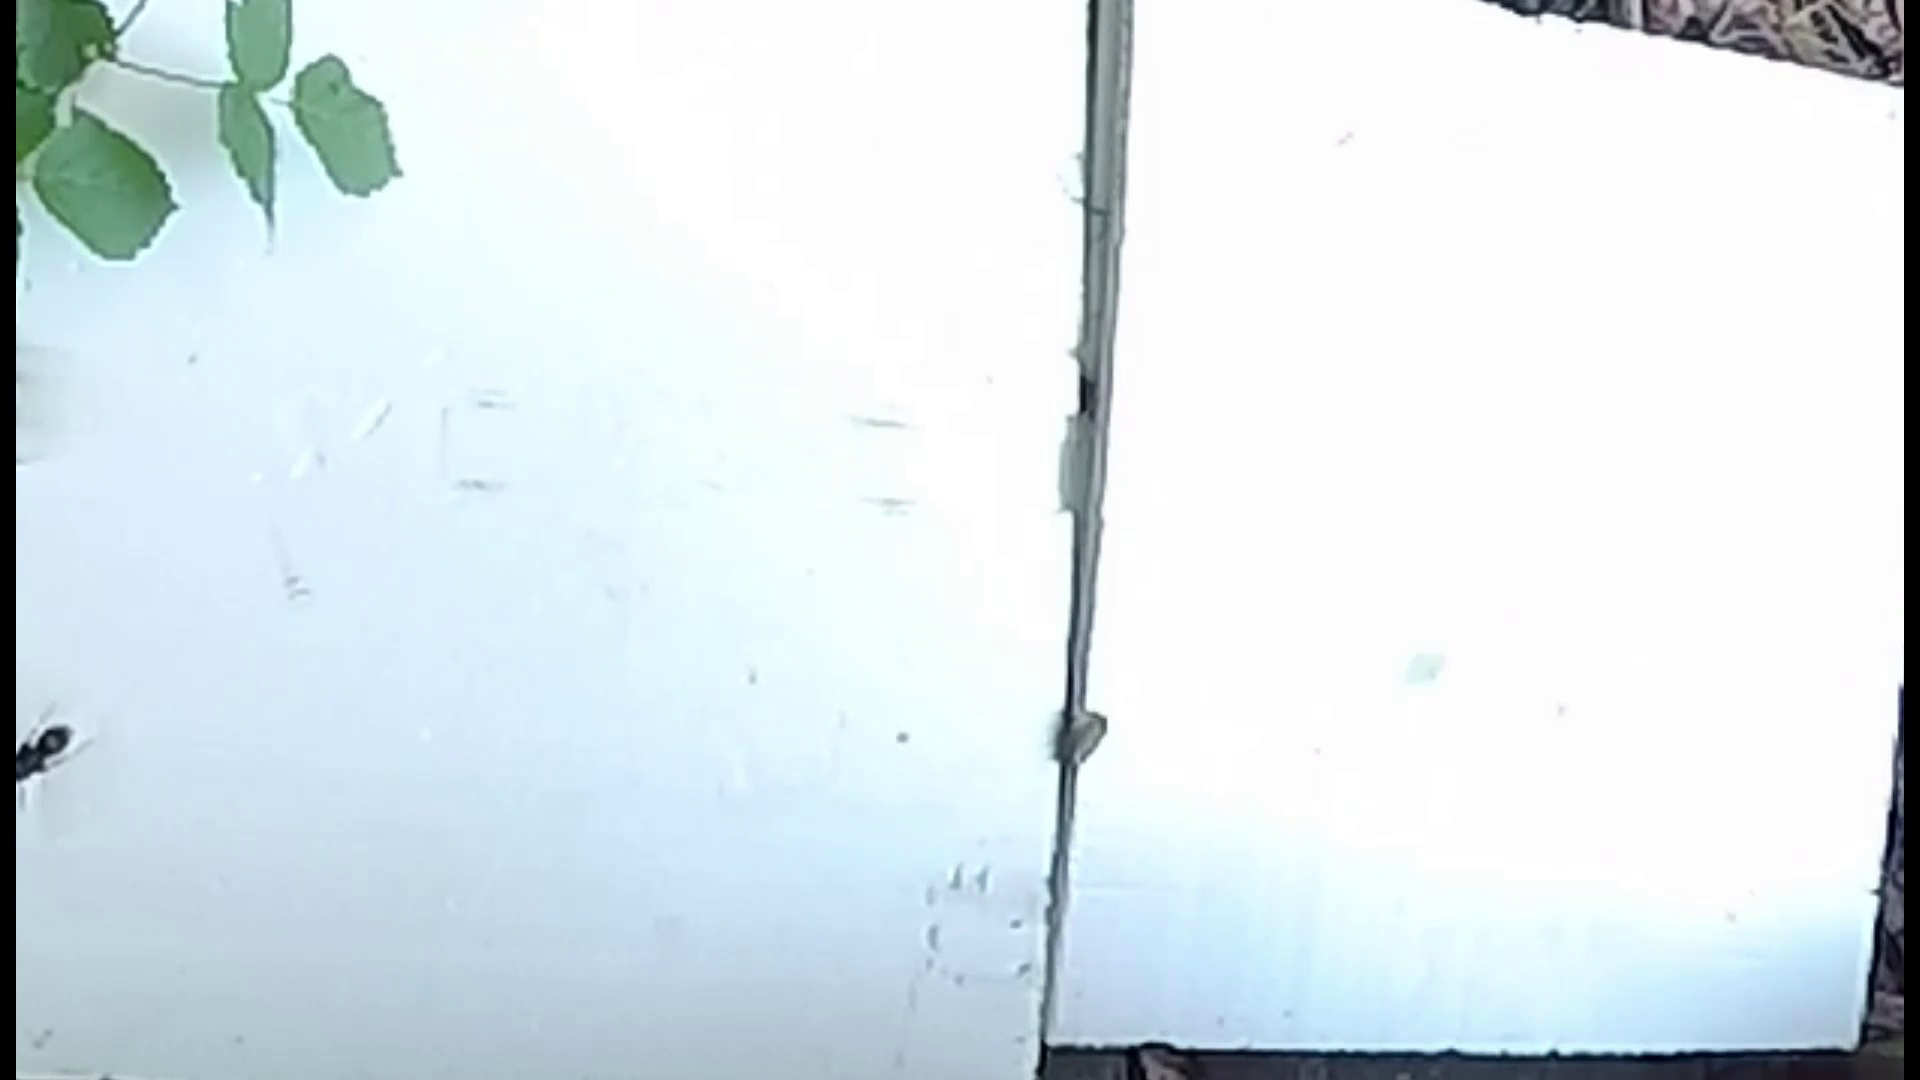Asian_hornets: (16, 686, 101, 813)
